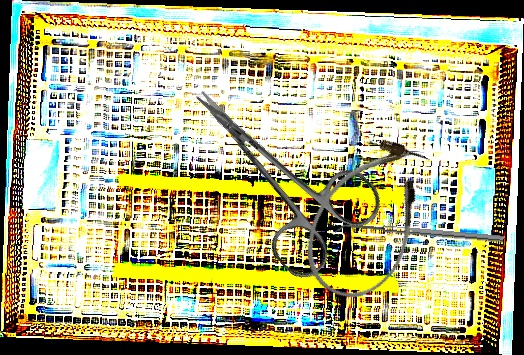Cannula: (286, 124, 451, 314)
Iris Scissors: (158, 49, 391, 287)
Spatula Surgical: (335, 221, 504, 249)
